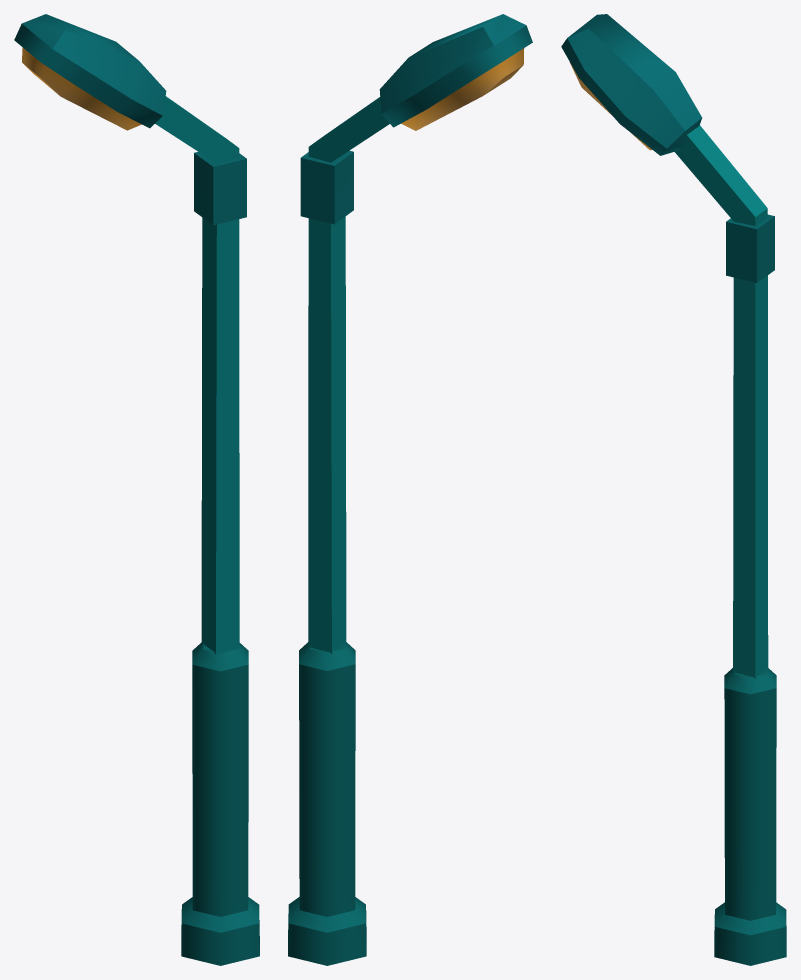
File: Lamp_Court_1_C.fbx
3 views of the same model, side by side, from view 1: azimuth 30°, elevation 25°; view 2: azimuth 150°, elevation 25°; view 3: azimuth 330°, elevation 25° (orthographic). The views are drawn at different scales.
Visible parts, largest first — view 1: Lamp_Court_1_C; view 2: Lamp_Court_1_C; view 3: Lamp_Court_1_C.
Part boxes in pixels (x1,y1,x2,y2): Lamp_Court_1_C: (14, 14, 259, 965); Lamp_Court_1_C: (288, 14, 532, 965); Lamp_Court_1_C: (561, 14, 786, 965).
Bounding box in the file's own units: 163 × 648 × 58.67.
